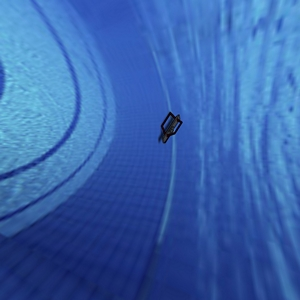submarine: (149, 89, 189, 157)
